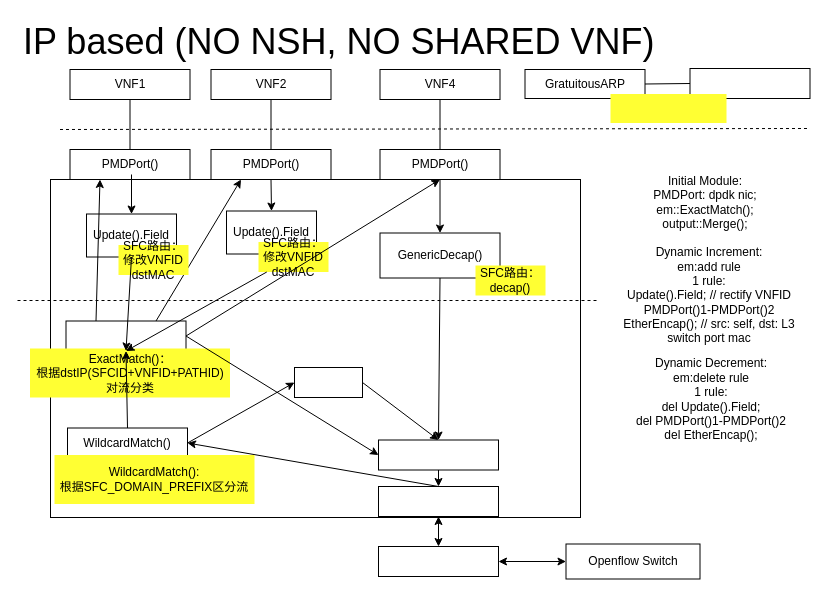
The diagram is 829 pixels wide and 596 high, and some of its shapes have lost their labels. Each missing label, with the centre of its shape:
ens3: the point at 749,83
ExactMatch(): the point at 125,335
Merge(): the point at 438,454
NIC: the point at 438,561
PMDPort: the point at 438,501
sink(): the point at 328,382
对外通告本机ip地址：有很多个ip地址: the point at 668,108
